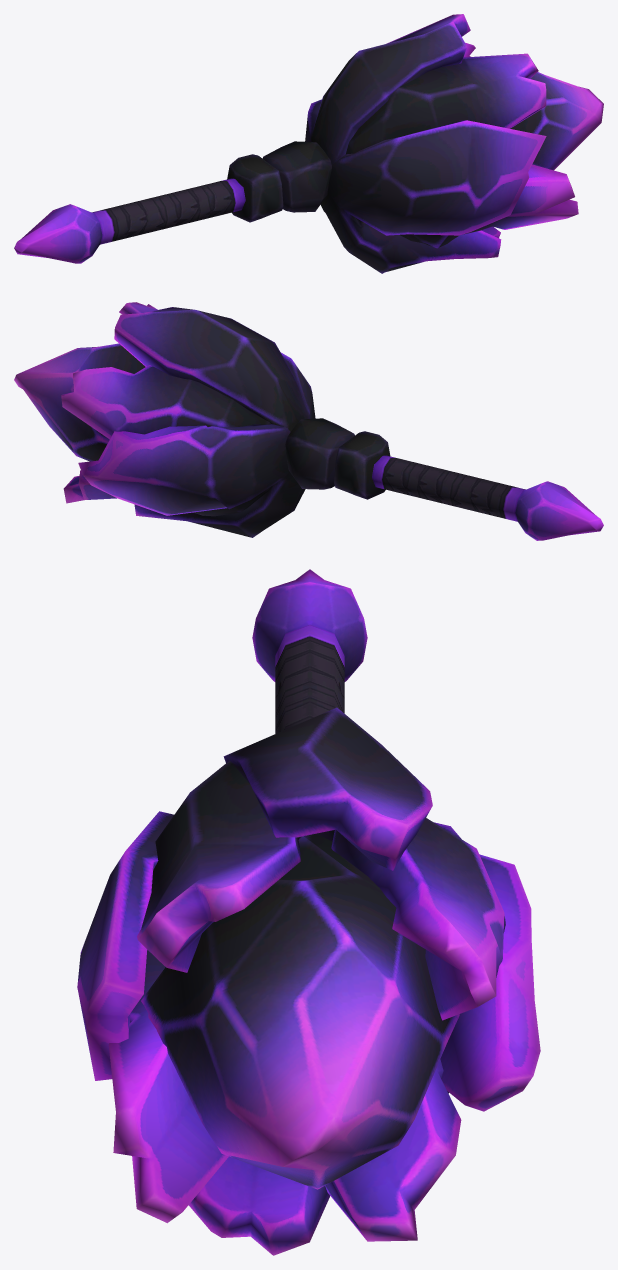
File: item_weawanmgm2501-et01.glb
The picture shows the model from 3 angles, top to bottom: view 1: azimuth 30°, elevation 25°; view 2: azimuth 150°, elevation 25°; view 3: azimuth 270°, elevation 25°; orthographic projection. The views are drawn at different scales.
Parts seen in each view (by area): view 1: FlyffMesh; view 2: FlyffMesh; view 3: FlyffMesh.
Part boxes in pixels (x1,y1,x2,y2): FlyffMesh: [14, 14, 603, 273]; FlyffMesh: [14, 302, 603, 540]; FlyffMesh: [77, 569, 540, 1255].
Size of the model in its own units: 1.16 by 0.4203 by 0.3941.
Materials: 1 (1 with a texture image).
